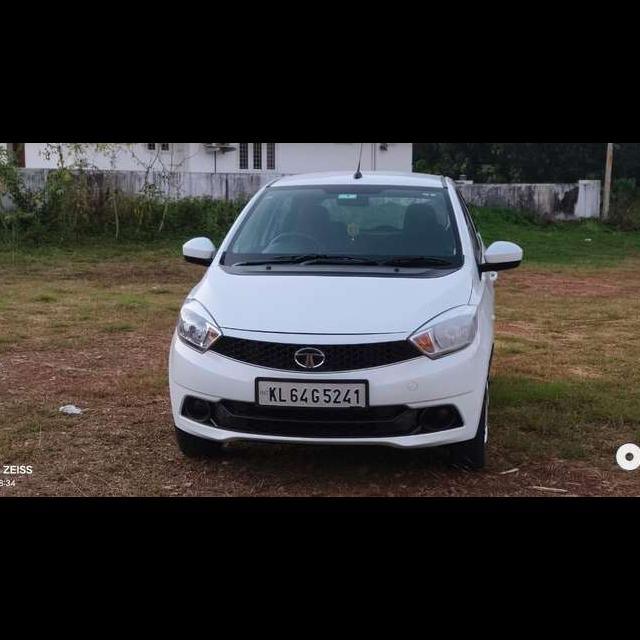Indian_Number_Plate: (257, 378, 368, 409)
